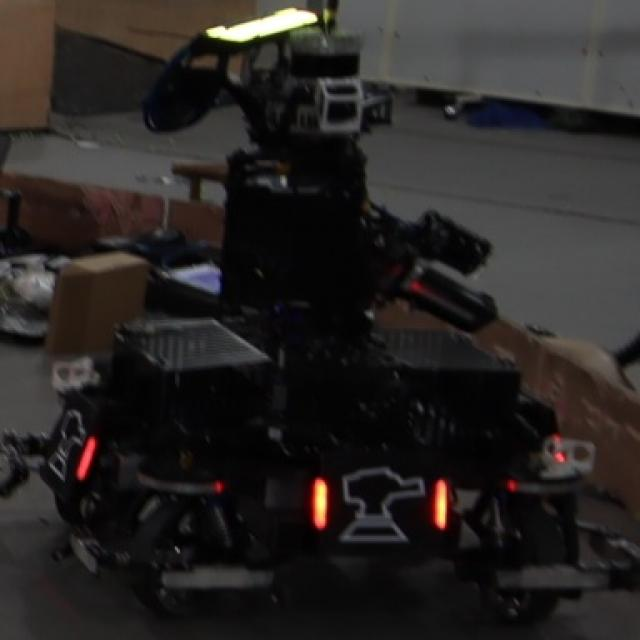Rs: (308, 463, 450, 548), (44, 396, 98, 493)
